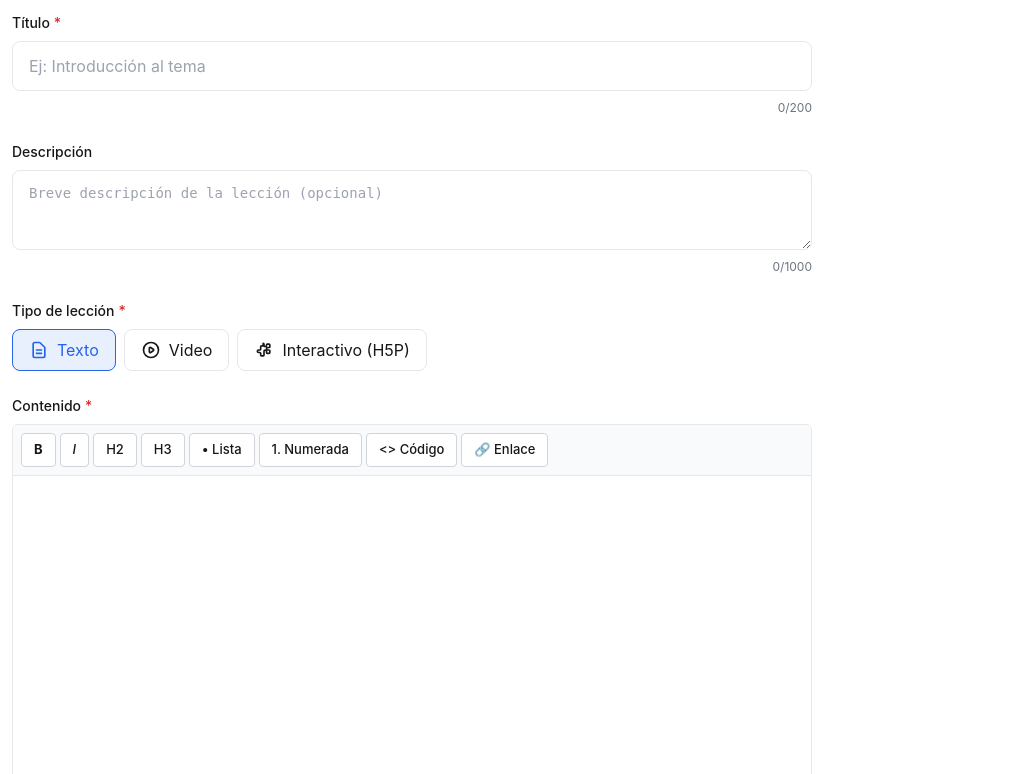
Test: LeccionForm › tipo INTERACTIVO (H5P) › debería mostrar el campo de URL H5P al seleccionar el tipo Interactivo
The image size is (1036, 774).
What coordinates should you click on to do the following:
click the button "Interactivo (H5P)"
I would click on:
 (332, 350)
Its box is [237,329,427,371].
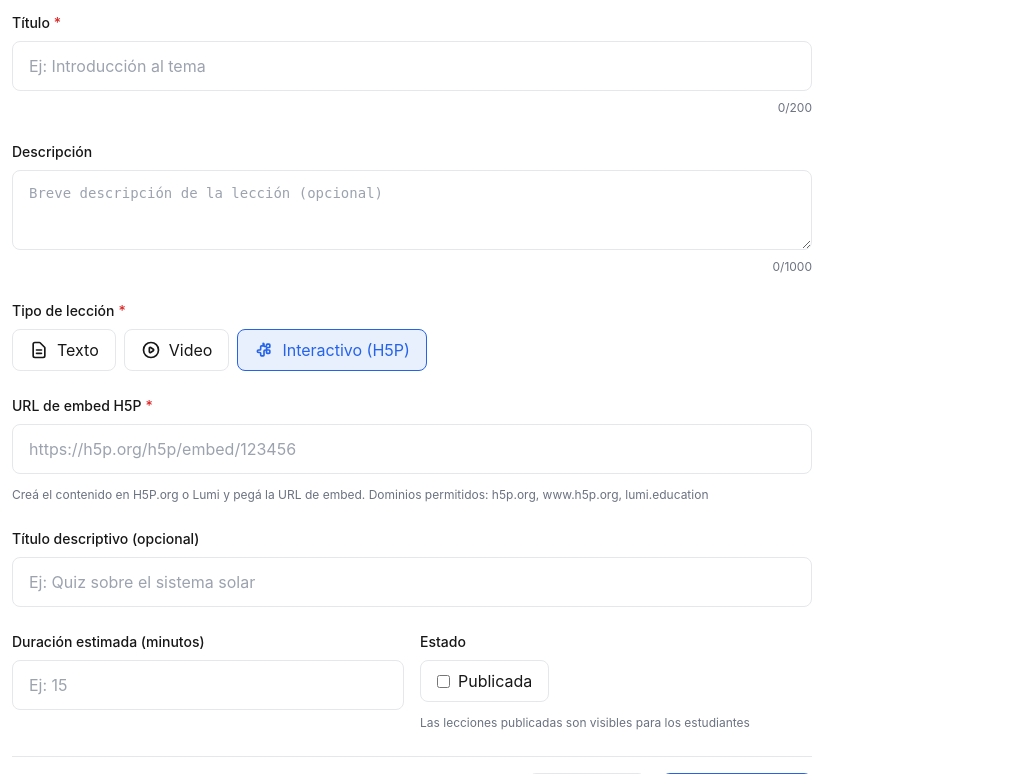
Expected: the field labelled "URL de embed H5P*" is shown, [12,424,812,474]
